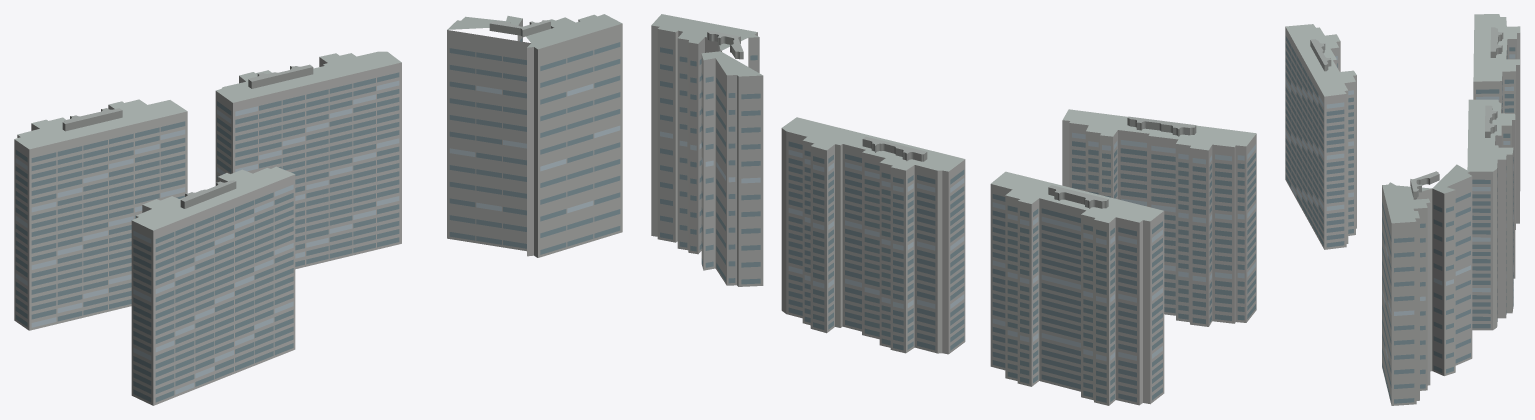
Rendered from apt-a10024018.glb.
3 renders of one model, left to right at view 1: azimuth 30°, elevation 25°; view 2: azimuth 150°, elevation 25°; view 3: azimuth 270°, elevation 25°, orthographic. The views are drawn at different scales.
Parts seen in each view (by area): view 1: apt-a10024018; view 2: apt-a10024018; view 3: apt-a10024018.
Boxes of the visible parts, x1=… form: apt-a10024018: x1=14, y1=14, x2=622, y2=405; apt-a10024018: x1=651, y1=14, x2=1256, y2=405; apt-a10024018: x1=1285, y1=14, x2=1520, y2=405.
Bounding box in the file's own units: 188 × 71 × 80.09.
